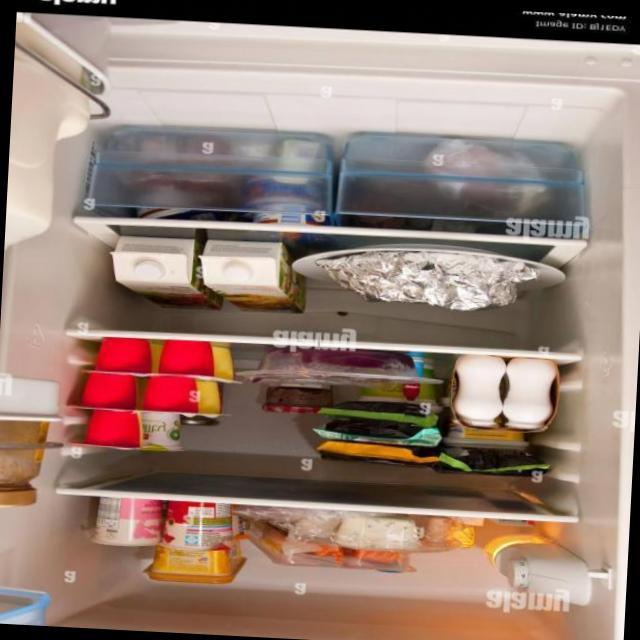Yogur: (162, 500, 235, 554), (90, 496, 162, 548)
cream: (144, 545, 247, 586)
milk: (111, 235, 222, 309), (201, 238, 302, 311)
